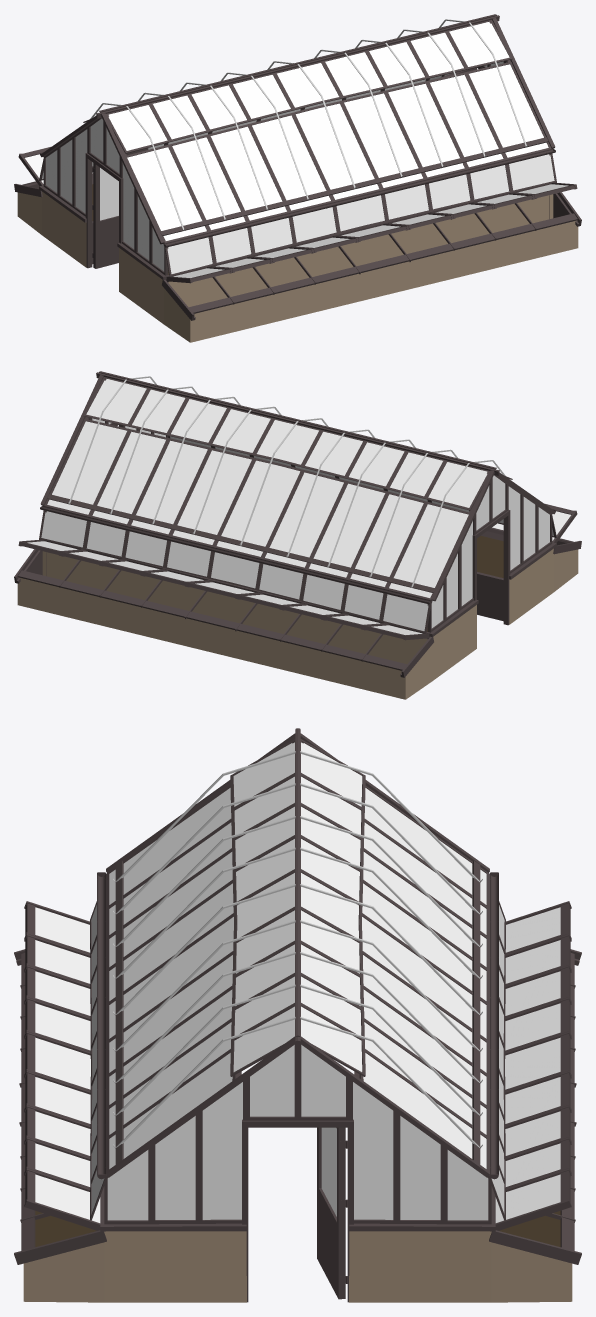
The model's file is greenhouse.glb.
The picture shows the model from 3 angles, top to bottom: view 1: azimuth 30°, elevation 25°; view 2: azimuth 150°, elevation 25°; view 3: azimuth 270°, elevation 25°; orthographic projection. The views are drawn at different scales.
Parts seen in each view (by area): view 1: greenhouse; view 2: greenhouse; view 3: greenhouse.
Part boxes in pixels (box(x1,y1,x2,y2)): greenhouse: box(14, 14, 581, 342); greenhouse: box(14, 371, 581, 699); greenhouse: box(14, 728, 581, 1302).
Bounding box in the file's own units: 10.01 × 4.04 × 7.71.
